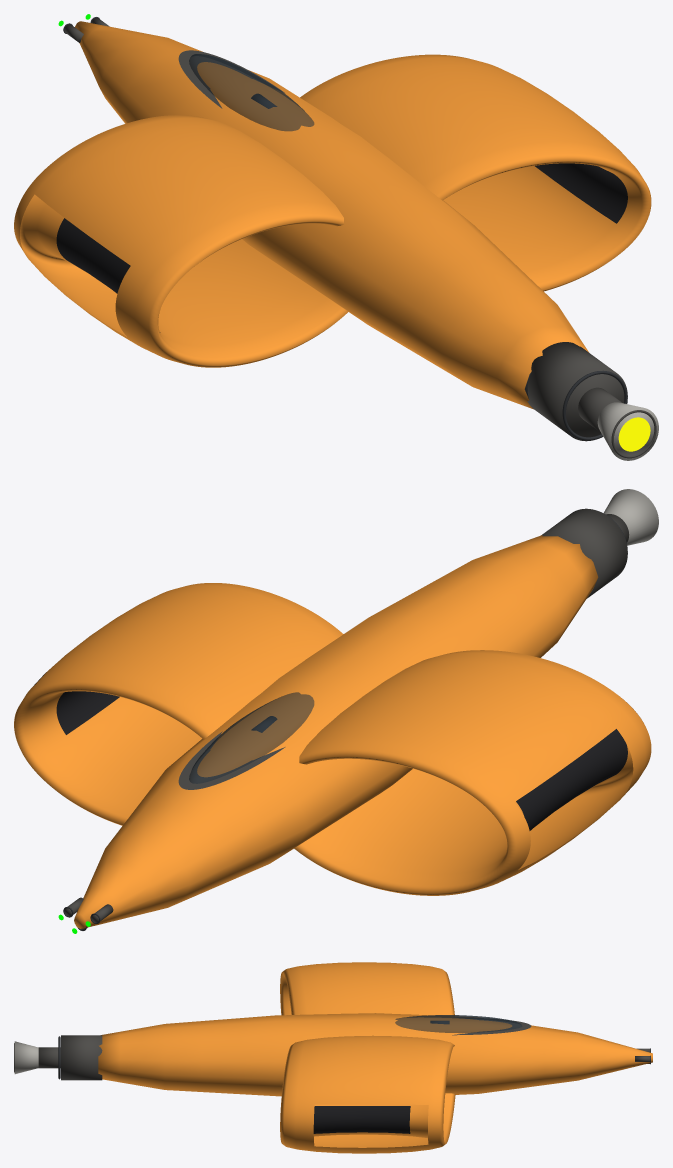
The model's file is Ship_TwoHoop_274249.glb.
The picture shows the model from 3 angles, top to bottom: view 1: azimuth 30°, elevation 25°; view 2: azimuth 150°, elevation 25°; view 3: azimuth 270°, elevation 25°; orthographic projection. The views are drawn at different scales.
Visible parts, largest first — view 1: Hoop_Right_StructuralRing_YAxisHole_CenterTangent_AftSwept.0, Fuselage_MainCenteredHull_CenterOfMassAtOrigin, Hoop_Right_StructuralRing_YAxisHole_CenterTangent_AftSwept, EngineBlock_AftHullIntegratedMountPlate, CanopyGlass_LowForwardPodDome, EngineBell_Center_AftHullBurnishedNozzle, CanopyFrame_LowInsetOvalRim, EngineThroat_Center_AftHullDarkSocket, EngineEmitter, EngineBlock_AftHullDarkTrimRing; view 2: Hoop_Right_StructuralRing_YAxisHole_CenterTangent_AftSwept.0, Fuselage_MainCenteredHull_CenterOfMassAtOrigin, Hoop_Right_StructuralRing_YAxisHole_CenterTangent_AftSwept, CanopyGlass_LowForwardPodDome, EngineBlock_AftHullIntegratedMountPlate, EngineBell_Center_AftHullBurnishedNozzle, CanopyFrame_LowInsetOvalRim; view 3: Fuselage_MainCenteredHull_CenterOfMassAtOrigin, Hoop_Right_StructuralRing_YAxisHole_CenterTangent_AftSwept, Hoop_Right_StructuralRing_YAxisHole_CenterTangent_AftSwept.0, CanopyGlass_LowForwardPodDome, EngineBlock_AftHullIntegratedMountPlate, EngineBell_Center_AftHullBurnishedNozzle, EngineThroat_Center_AftHullDarkSocket, CanopyFrame_LowInsetOvalRim.
Part boxes in pixels (box(x1,y1,x2,y2)): Hoop_Right_StructuralRing_YAxisHole_CenterTangent_AftSwept.0: box(14, 115, 348, 367); Fuselage_MainCenteredHull_CenterOfMassAtOrigin: box(75, 21, 588, 409); Hoop_Right_StructuralRing_YAxisHole_CenterTangent_AftSwept: box(300, 54, 651, 291); EngineBlock_AftHullIntegratedMountPlate: box(527, 342, 627, 441); CanopyGlass_LowForwardPodDome: box(189, 54, 314, 131); EngineBell_Center_AftHullBurnishedNozzle: box(597, 402, 658, 460); CanopyFrame_LowInsetOvalRim: box(178, 50, 285, 108); EngineThroat_Center_AftHullDarkSocket: box(578, 387, 621, 432); EngineEmitter: box(618, 417, 650, 451); EngineBlock_AftHullDarkTrimRing: box(562, 370, 627, 440); Hoop_Right_StructuralRing_YAxisHole_CenterTangent_AftSwept.0: box(294, 650, 651, 895); Fuselage_MainCenteredHull_CenterOfMassAtOrigin: box(74, 535, 598, 928); Hoop_Right_StructuralRing_YAxisHole_CenterTangent_AftSwept: box(14, 583, 343, 825); CanopyGlass_LowForwardPodDome: box(189, 692, 314, 783); EngineBlock_AftHullIntegratedMountPlate: box(541, 508, 627, 598); EngineBell_Center_AftHullBurnishedNozzle: box(604, 489, 658, 545); CanopyFrame_LowInsetOvalRim: box(178, 731, 285, 789); Fuselage_MainCenteredHull_CenterOfMassAtOrigin: box(98, 1013, 652, 1096); Hoop_Right_StructuralRing_YAxisHole_CenterTangent_AftSwept: box(280, 1035, 455, 1153); Hoop_Right_StructuralRing_YAxisHole_CenterTangent_AftSwept.0: box(280, 962, 454, 1015); CanopyGlass_LowForwardPodDome: box(395, 1015, 522, 1033); EngineBlock_AftHullIntegratedMountPlate: box(61, 1035, 102, 1080); EngineBell_Center_AftHullBurnishedNozzle: box(14, 1041, 38, 1074); EngineThroat_Center_AftHullDarkSocket: box(38, 1047, 60, 1068); CanopyFrame_LowInsetOvalRim: box(452, 1018, 531, 1035).
Bounding box in the file's own units: 3.96 × 1.16 × 7.34.
